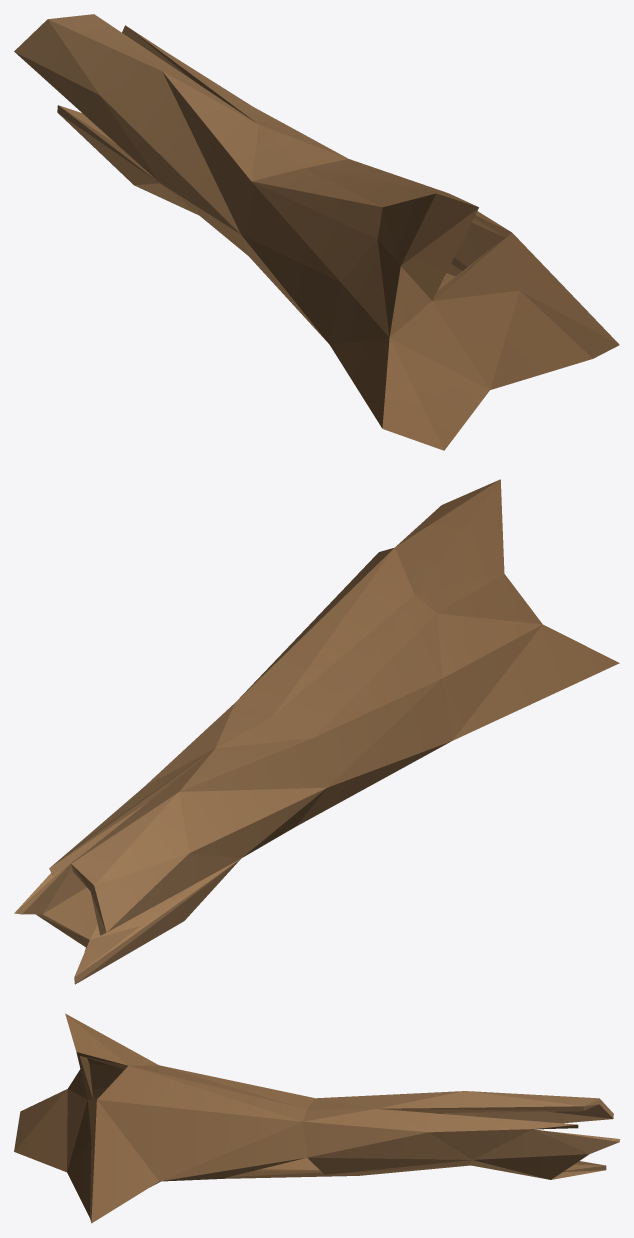
The model's file is Log_Hollow_01.fbx.
3 renders of one model, top to bottom at view 1: azimuth 30°, elevation 25°; view 2: azimuth 150°, elevation 25°; view 3: azimuth 270°, elevation 25°, orthographic. The views are drawn at different scales.
Parts seen in each view (by area): view 1: Log_Hollow; view 2: Log_Hollow; view 3: Log_Hollow.
Part boxes in pixels (x1,y1,x2,y2): Log_Hollow: (14, 14, 619, 450); Log_Hollow: (14, 479, 619, 984); Log_Hollow: (14, 1013, 619, 1223).
Size of the model in its own units: 1.85 by 1.35 by 5.
